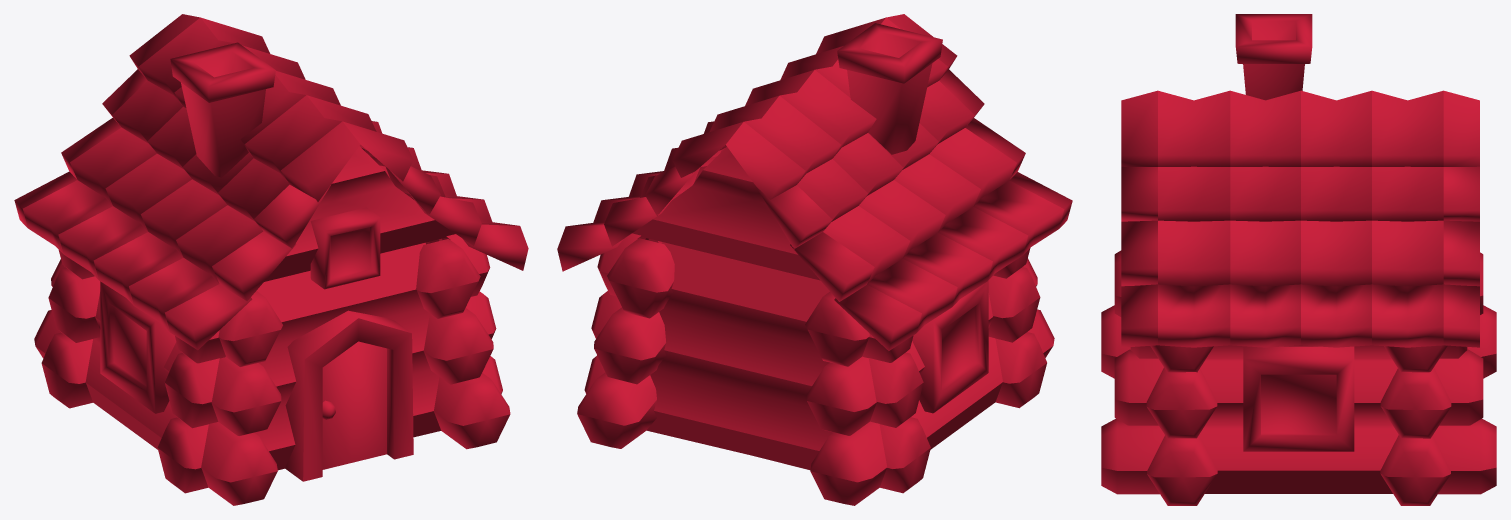
Rendered from SM_Shelter_01_LOD1.fbx.
The picture shows the model from 3 angles, left to right: view 1: azimuth 30°, elevation 25°; view 2: azimuth 150°, elevation 25°; view 3: azimuth 270°, elevation 25°; orthographic projection.
Visible parts, largest first — view 1: SM_Shelter_01_LOD1; view 2: SM_Shelter_01_LOD1; view 3: SM_Shelter_01_LOD1.
Part boxes in pixels (x1,y1,x2,y2): SM_Shelter_01_LOD1: [14, 14, 528, 505]; SM_Shelter_01_LOD1: [557, 14, 1072, 505]; SM_Shelter_01_LOD1: [1101, 14, 1496, 505].
Size of the model in its own units: 582 by 576 by 557.
